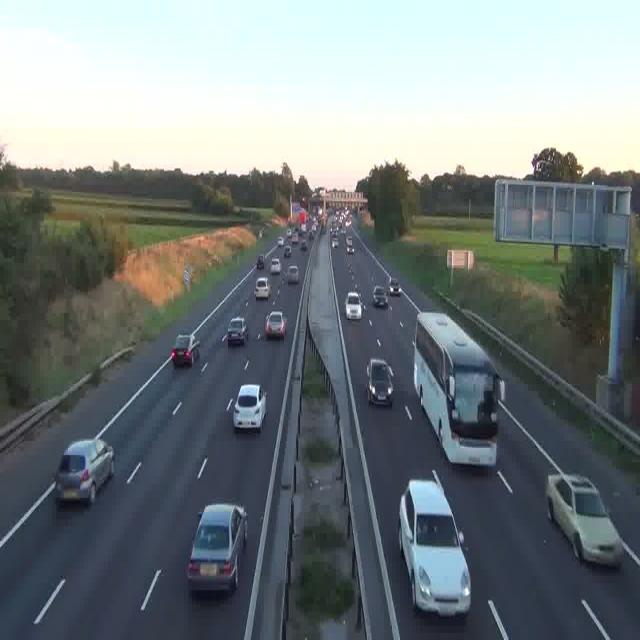car: (399, 478, 471, 617), (546, 473, 622, 566), (188, 504, 248, 594), (54, 439, 114, 504), (233, 385, 265, 430), (366, 358, 394, 406), (170, 333, 200, 368), (226, 314, 248, 345), (265, 311, 285, 338), (345, 293, 362, 320), (372, 284, 388, 306), (255, 278, 270, 299), (388, 277, 401, 298), (286, 266, 298, 284), (269, 257, 281, 274), (282, 244, 292, 257), (256, 254, 265, 268), (300, 238, 308, 251), (347, 242, 355, 253), (332, 237, 339, 248)
truck: (412, 312, 502, 467), (297, 209, 307, 228)
